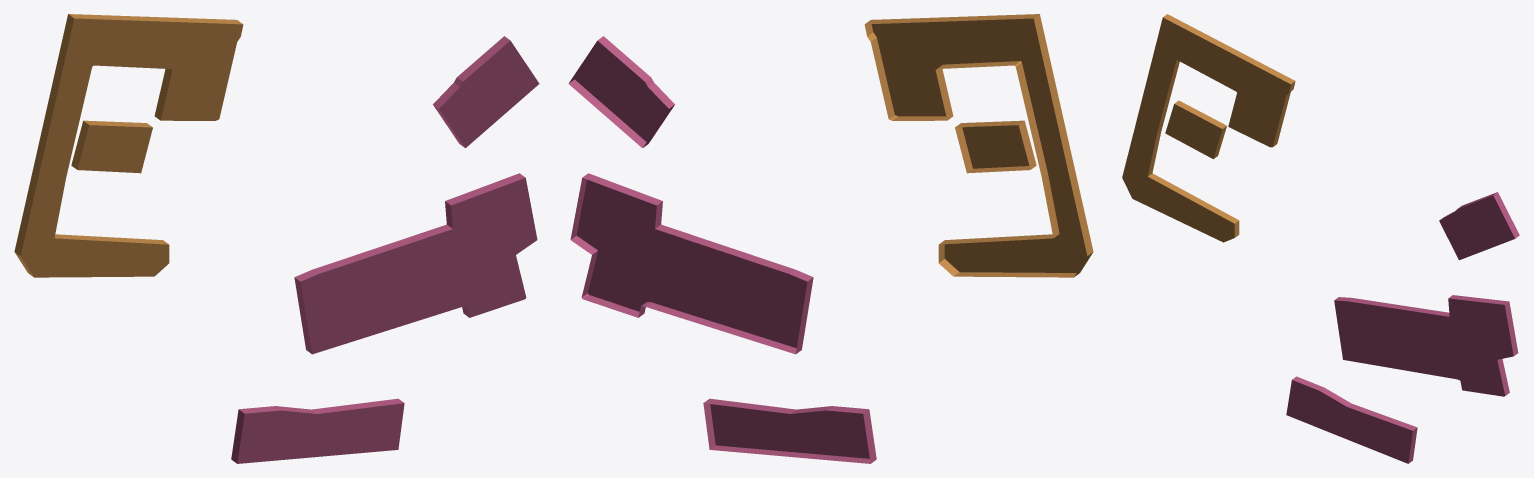
Rendered from buildings_k30.obj.
3 views of the same model, side by side, from view 1: azimuth 30°, elevation 25°; view 2: azimuth 150°, elevation 25°; view 3: azimuth 330°, elevation 25° (orthographic). The views are drawn at different scales.
Visible parts, largest first — view 1: roof1, roof2, zone1, zone2; view 2: roof1, roof2, zone1, zone2; view 3: roof1, roof2, zone2, zone1.
Part boxes in pixels (x1,y1,x2,y2): roof1: (237,41,539,463); roof2: (20,18,243,277); zone1: (231,36,525,463); zone2: (14,14,242,276); roof1: (574,42,869,458); roof2: (871,18,1087,272); zone1: (568,36,876,463); zone2: (864,14,1093,277); roof1: (1286,195,1514,463); roof2: (1122,17,1290,242); zone2: (1148,14,1295,237); zone1: (1292,192,1519,463).
Bounding box in the file's own units: 210 × 198 × 4.33.
